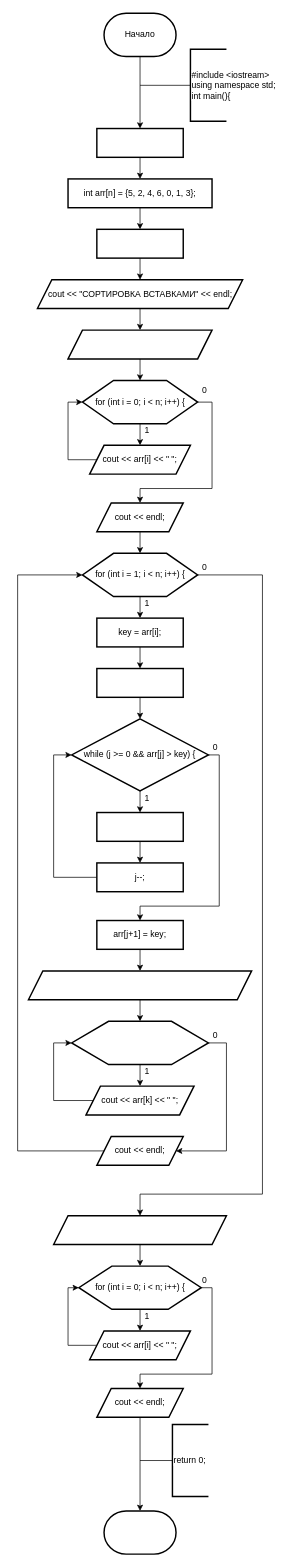
This 289x1567 diagram has some shape labels left out. Each missing label, with the centre of its shape:
arr[j+1] = arr[j];: (x=140, y=826)
const int n = 7;: (x=140, y=142)
cout << "Исходный массив: ";: (x=139, y=344)
cout << "Отсортированный массив: ";: (x=140, y=1230)
cout << "После вставки элемента " << key << ": ";: (x=139, y=985)
for (int k = 0; k < n; k++) {: (x=140, y=1042)
int key, j;: (x=140, y=243)
j = i - 1;: (x=140, y=682)
Конец: (x=139, y=1532)
